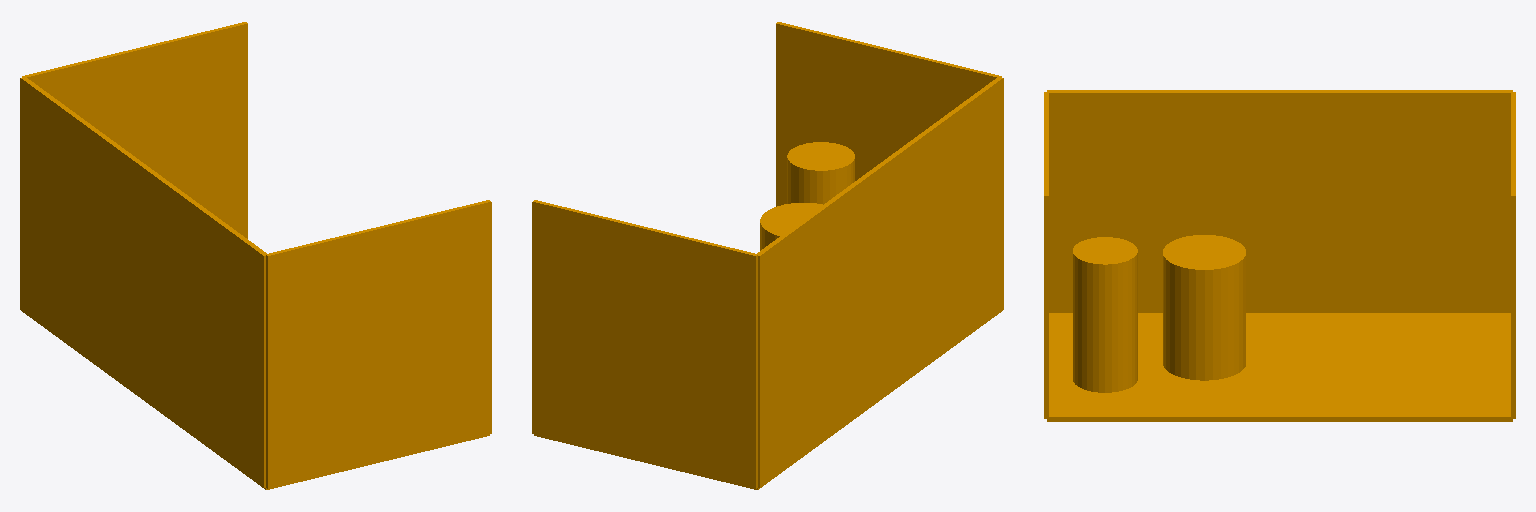
robot.urdf — syn_can_cabinet_2038:
<?xml version="1.0" ?>
<robot name="syn_can_cabinet_2038">
    <link concave="yes" name="base_link">
        <inertial>
            <origin rpy="0 0 0" xyz="0 0 0"/>
            <mass value="0.0"/>
            <inertia ixx="1e-08" ixy="0" ixz="0" iyy="1e-08" iyz="0" izz="1e-08"/>
        </inertial>
        <visual>
            <origin xyz="0 0 0" rpy="0 0 0" />
            <geometry>
                <mesh filename="syn_can_cabinet_2038.obj" scale="1.000000 1.000000 1.000000"/>
            </geometry>         
        </visual>

        <collision concave="yes">
            <origin xyz="0 0 0" rpy="0 0 0"/>
            <geometry>
                <mesh filename="syn_can_cabinet_2038.obj" scale="1.000000 1.000000 1.000000"/>
            </geometry>
        </collision>
    </link>
</robot>
    

--- Facts derived from the render (not from the file) ---
The picture shows the robot from 3 angles, left to right: view 1: azimuth 30°, elevation 25°; view 2: azimuth 150°, elevation 25°; view 3: azimuth 270°, elevation 25°; orthographic projection.
Robot: syn_can_cabinet_2038 — 1 links, 0 joints (none); root link base_link; default pose: every joint at zero.
Visible links, largest first — view 1: base_link; view 2: base_link; view 3: base_link.
Link boxes in pixels (<box>): base_link: <box>20,22,491,489</box>; base_link: <box>532,22,1003,489</box>; base_link: <box>1044,90,1515,421</box>.
Bounding box of the posed robot: 0.1912 × 0.3595 × 0.1896 m (x, y, z).
Meshes: 1 distinct files referenced, 1 mesh visuals loaded (1 OBJ).
